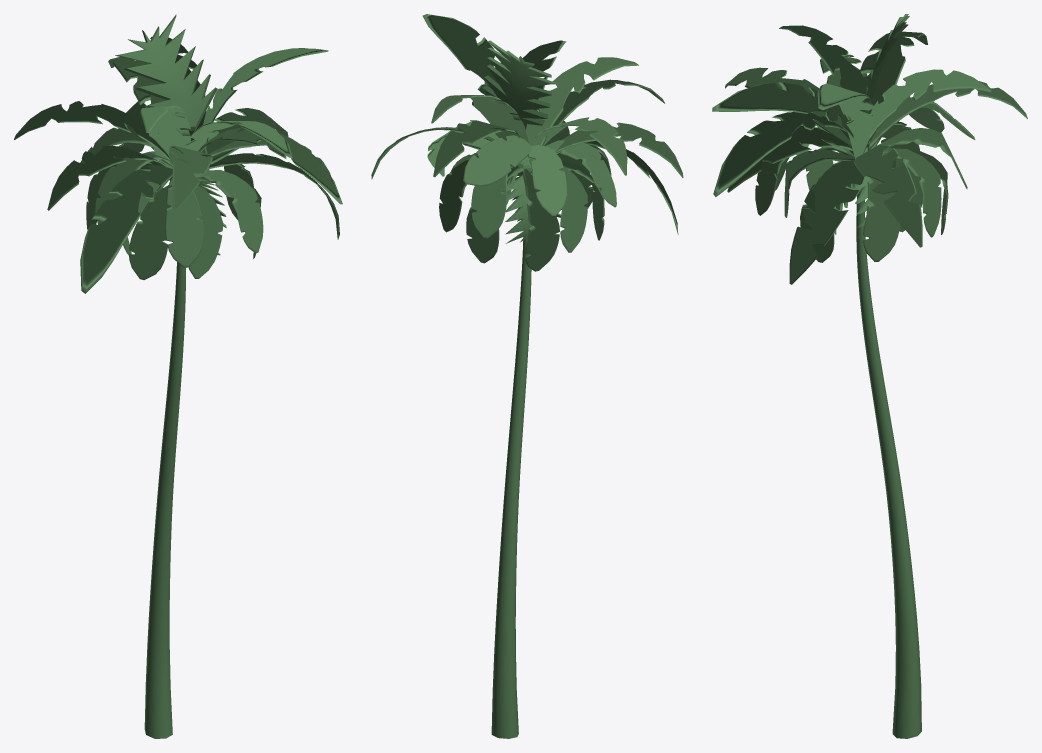
File: pamtree_tall_02_3_5_uv_export.fbx
3 renders of one model, left to right at view 1: azimuth 30°, elevation 25°; view 2: azimuth 150°, elevation 25°; view 3: azimuth 270°, elevation 25°, orthographic. The views are drawn at different scales.
Visible parts, largest first — view 1: pamtree_tall_02_3_5_uv_export; view 2: pamtree_tall_02_3_5_uv_export; view 3: pamtree_tall_02_3_5_uv_export.
Part boxes in pixels (left/top/right/bottom): pamtree_tall_02_3_5_uv_export: left=14, top=14, right=342, bottom=738; pamtree_tall_02_3_5_uv_export: left=371, top=14, right=683, bottom=738; pamtree_tall_02_3_5_uv_export: left=712, top=14, right=1027, bottom=738.
Size of the model in its own units: 12.91 by 31.54 by 12.56.
